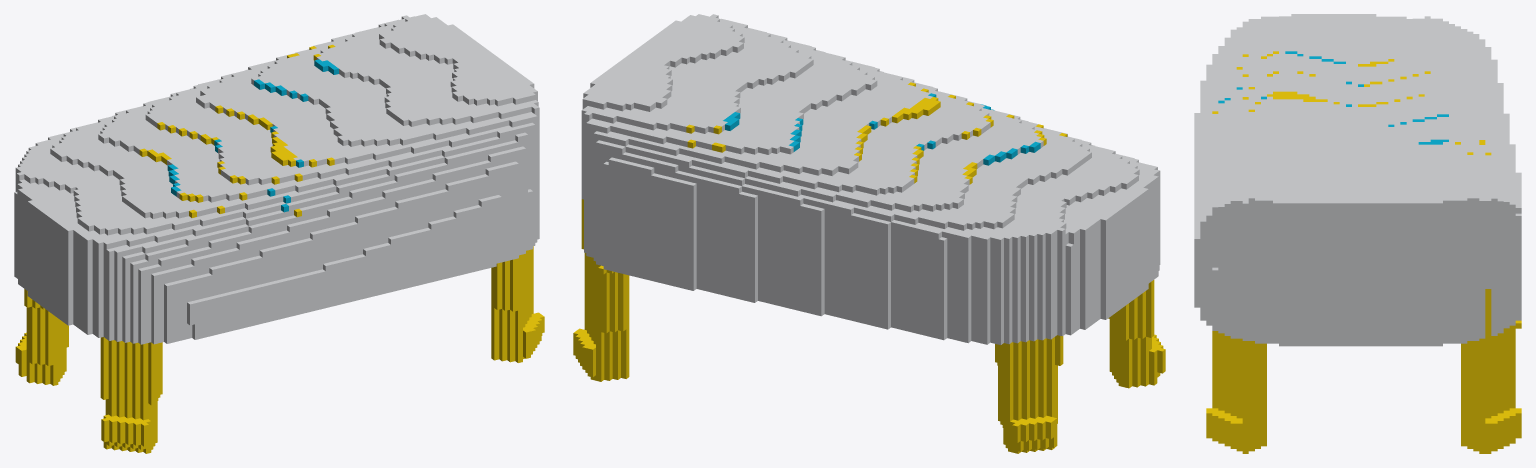
3 views of the same model, side by side, from view 1: azimuth 30°, elevation 25°; view 2: azimuth 150°, elevation 25°; view 3: azimuth 270°, elevation 25° (orthographic). The views are drawn at different scales.
Visible parts, largest first — view 1: =>[0:1:1:710], =>[0:1:1:156], =>[0:1:1:399], =>[0:1:1:126], =>[0:1:1:339], =>[0:1:1:38], =>[0:1:1:214], =>[0:1:1:413], =>[0:1:1:400], =>[0:1:1:577], =>[0:1:1:398], =>[0:1:1:740] (+39 smaller); view 2: =>[0:1:1:296], =>[0:1:1:666], =>[0:1:1:660], =>[0:1:1:812], =>[0:1:1:415], =>[0:1:1:156], =>[0:1:1:126], =>[0:1:1:759], =>[0:1:1:339], =>[0:1:1:38], =>[0:1:1:1176], =>[0:1:1:214] (+31 smaller); view 3: =>[0:1:1:654], =>[0:1:1:294], =>[0:1:1:293], =>[0:1:1:126], =>[0:1:1:339], =>[0:1:1:38], =>[0:1:1:426], =>[0:1:1:989], =>[0:1:1:425], =>[0:1:1:214], =>[0:1:1:40], =>[0:1:1:577] (+59 smaller).
Part boxes in pixels (left/top/right/bottom): =>[0:1:1:710]: left=195, top=229, right=496, bottom=339; =>[0:1:1:156]: left=27, top=201, right=68, bottom=325; =>[0:1:1:399]: left=187, top=248, right=322, bottom=302; =>[0:1:1:126]: left=406, top=14, right=535, bottom=99; =>[0:1:1:339]: left=273, top=56, right=365, bottom=106; =>[0:1:1:38]: left=345, top=35, right=469, bottom=119; =>[0:1:1:214]: left=229, top=86, right=307, bottom=127; =>[0:1:1:413]: left=73, top=230, right=87, bottom=334; =>[0:1:1:400]: left=323, top=222, right=362, bottom=263; =>[0:1:1:577]: left=64, top=129, right=144, bottom=178; =>[0:1:1:398]: left=498, top=163, right=518, bottom=230; =>[0:1:1:740]: left=114, top=111, right=191, bottom=158; =>[0:1:1:296]: left=603, top=164, right=693, bottom=290; =>[0:1:1:666]: left=824, top=209, right=887, bottom=329; =>[0:1:1:660]: left=758, top=195, right=821, bottom=315; =>[0:1:1:812]: left=696, top=183, right=754, bottom=302; =>[0:1:1:415]: left=891, top=227, right=943, bottom=340; =>[0:1:1:156]: left=1106, top=189, right=1148, bottom=319; =>[0:1:1:126]: left=583, top=14, right=719, bottom=103; =>[0:1:1:759]: left=947, top=233, right=968, bottom=342; =>[0:1:1:339]: left=713, top=94, right=810, bottom=147; =>[0:1:1:38]: left=651, top=36, right=782, bottom=124; =>[0:1:1:1176]: left=971, top=235, right=987, bottom=344; =>[0:1:1:214]: left=794, top=113, right=871, bottom=158; =>[0:1:1:654]: left=1279, top=203, right=1442, bottom=346; =>[0:1:1:294]: left=1443, top=200, right=1467, bottom=343; =>[0:1:1:293]: left=1255, top=211, right=1278, bottom=343; =>[0:1:1:126]: left=1248, top=188, right=1479, bottom=198; =>[0:1:1:339]: left=1352, top=129, right=1473, bottom=147; =>[0:1:1:38]: left=1248, top=162, right=1479, bottom=170; =>[0:1:1:426]: left=1467, top=198, right=1479, bottom=340; =>[0:1:1:989]: left=1230, top=201, right=1242, bottom=338; =>[0:1:1:425]: left=1242, top=203, right=1254, bottom=340; =>[0:1:1:214]: left=1346, top=107, right=1448, bottom=122; =>[0:1:1:40]: left=1255, top=157, right=1473, bottom=162; =>[0:1:1:577]: left=1352, top=46, right=1479, bottom=56.
Size of the model in its own units: 39.24 by 20.27 by 23.29.
